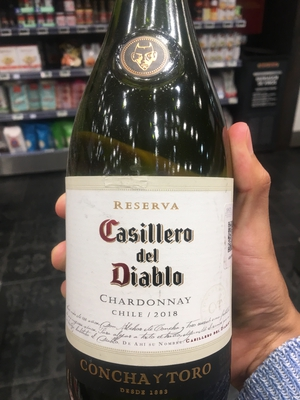casillero del diablo chardonnay: (60, 6, 247, 400)
